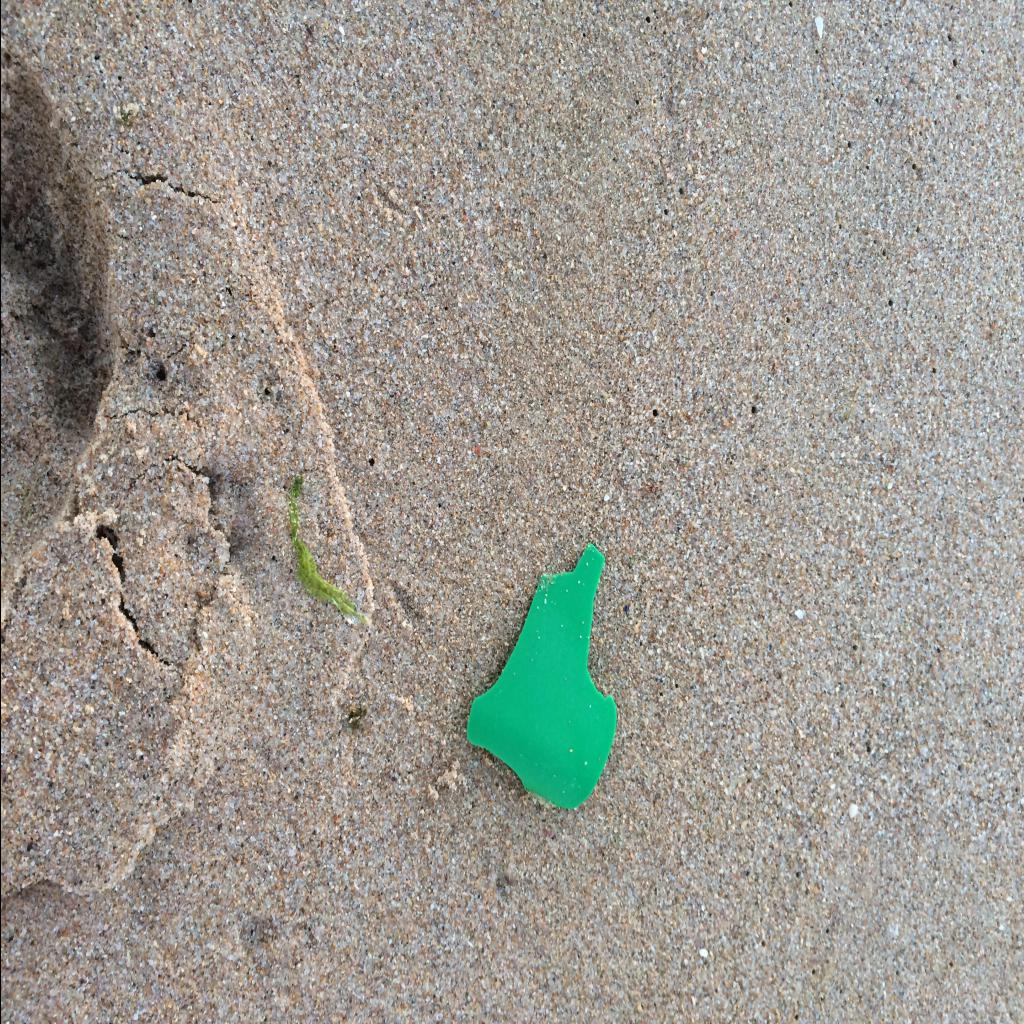Other plastic wrapper: (464, 542, 616, 810)
